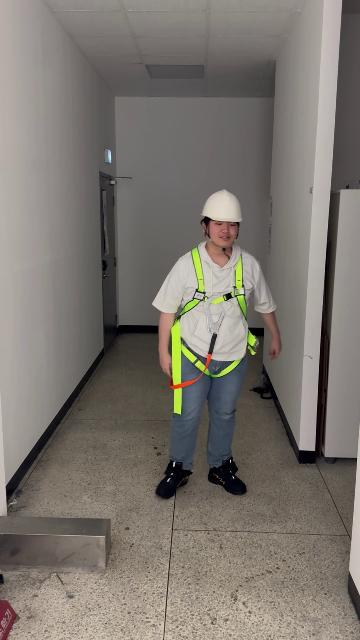helmet_worn: (200, 188, 244, 223)
shoe_worn: (207, 457, 246, 495), (155, 461, 192, 499)
vest_worn: (165, 250, 256, 405)
